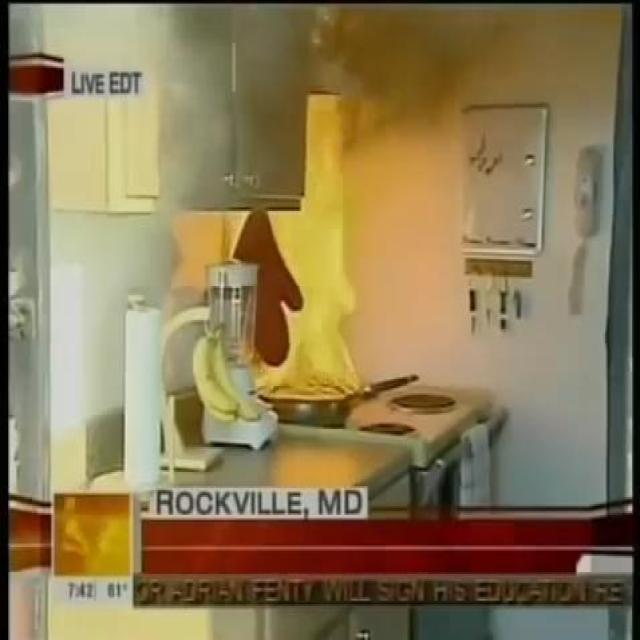fire: (12, 4, 237, 196), (339, 8, 507, 139)
smoke: (258, 90, 360, 403)
